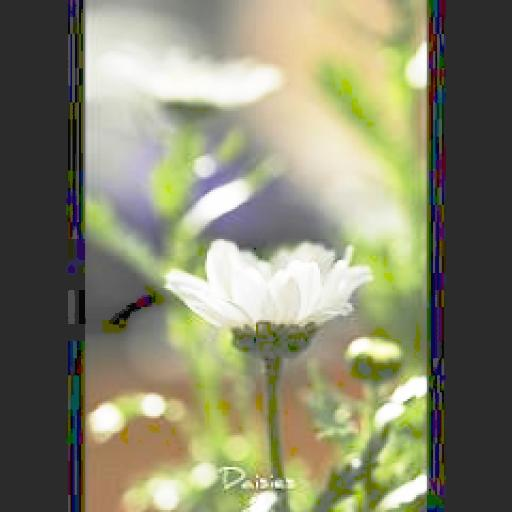daisy: (168, 237, 365, 324)
